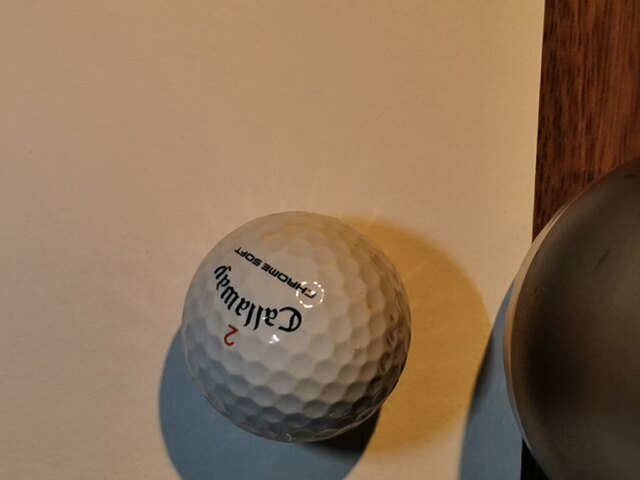Ball: (181, 210, 412, 443)
Callaway: (213, 265, 302, 332)
